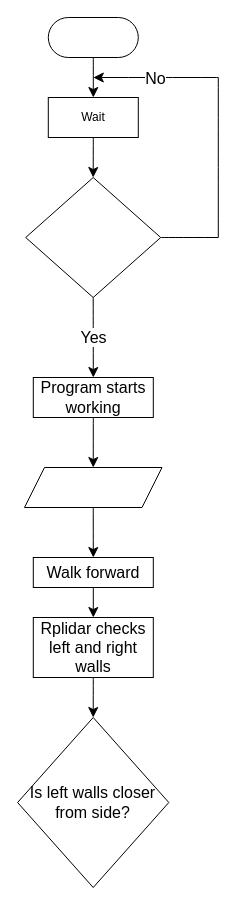
The diagram is 237 pixels wide and 905 high, and some of its shapes have lost their labels. Each missing label, with the centre of its shape:
"Is the button pressed?" goes at (93,237).
"Set i = 0" goes at (93,487).
"Start" goes at (92,37).
